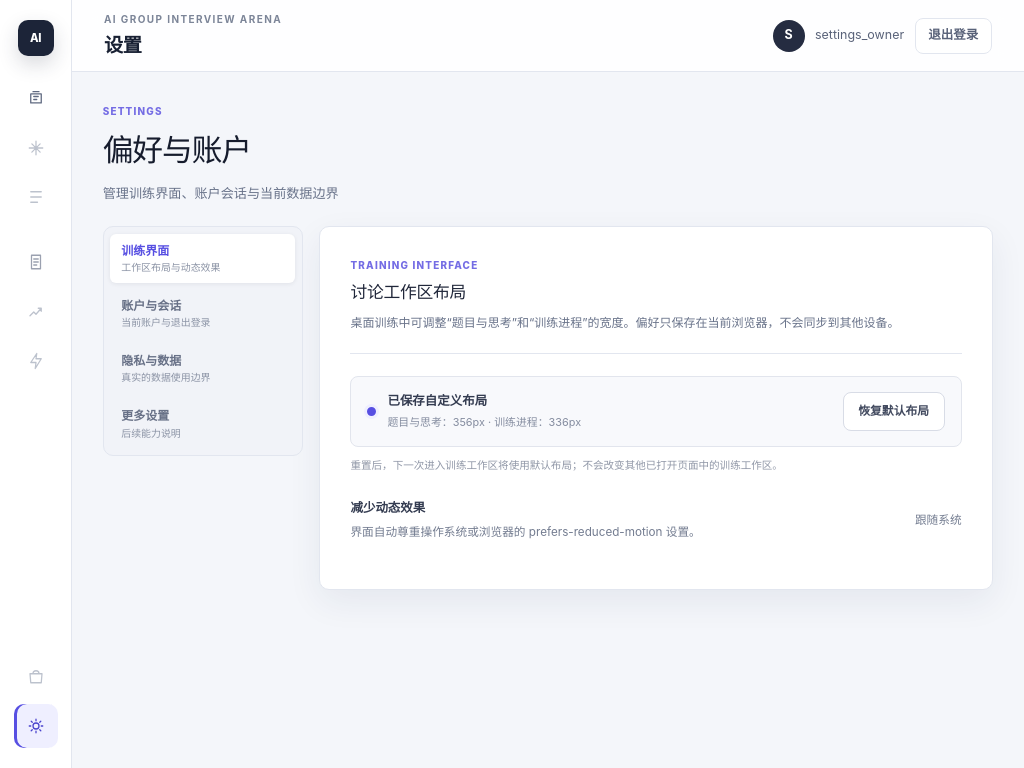
Test: SettingsPageClient › shows a valid custom browser layout and resets only that preference immediately
Check: the text "已保存自定义布局" is shown, box [387,393,487,408]
Click the button "恢复默认布局" at {"x": 894, "y": 412}, box [843,392,945,431]
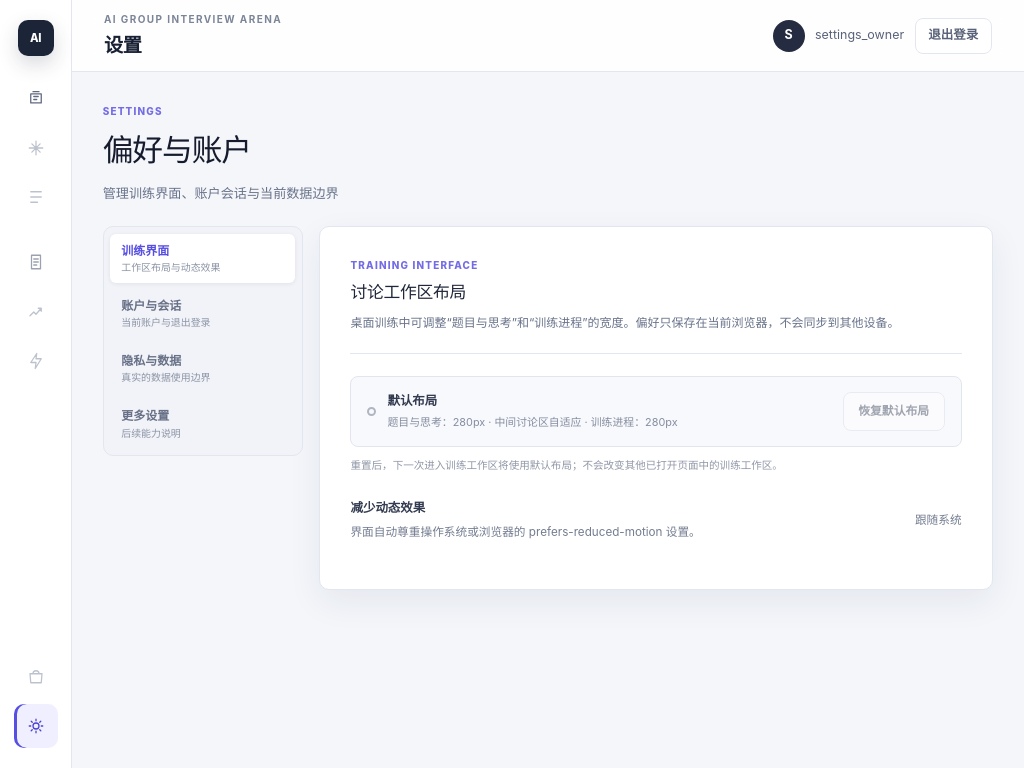
Check: the text "重置后，下一次进入训练工作区将使用默认布局；不会改变其他已打开页面中的训练工作区。" is shown, box [350,459,783,472]
Check: the text "默认布局" is shown, box [387,393,437,408]
Check: the button "恢复默认布局" is disabled, box [843,392,945,431]
